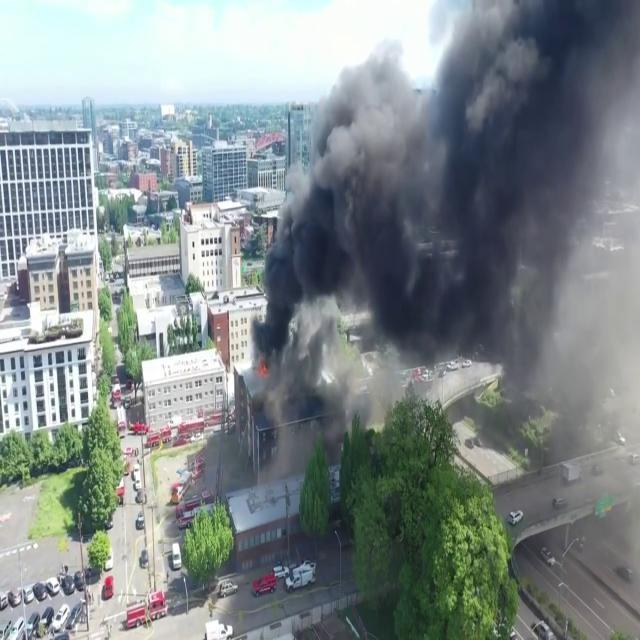Smoke: (252, 1, 638, 413)
